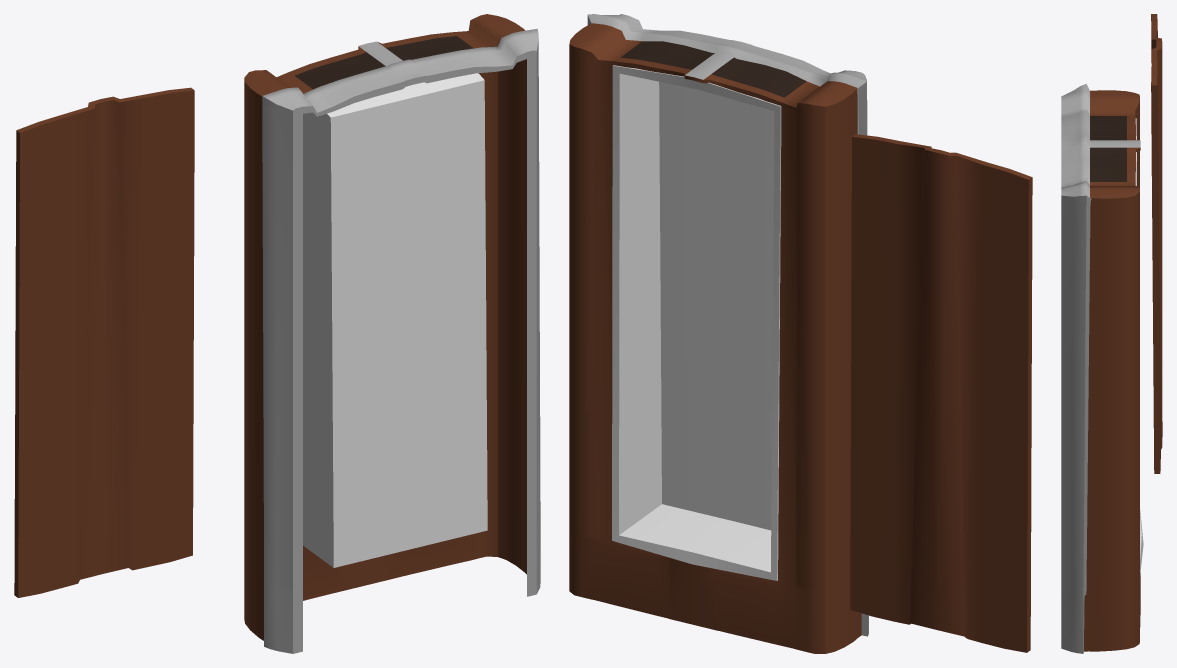
File: auto_kast 1.FBX
The picture shows the model from 3 angles, left to right: view 1: azimuth 30°, elevation 25°; view 2: azimuth 150°, elevation 25°; view 3: azimuth 270°, elevation 25°; orthographic projection. The views are drawn at different scales.
Visible parts, largest first — view 1: motorkap, Bak, Plane002; view 2: Plane002, motorkap, Bak; view 3: Plane002, motorkap, Bak.
Part boxes in pixels (x1,y1,x2,y2): motorkap: (14,87,194,597); Bak: (303,73,487,567); Plane002: (244,14,540,653); Plane002: (569,14,868,653); motorkap: (850,134,1032,652); Bak: (612,65,781,580); Plane002: (1061,83,1140,653); motorkap: (1151,14,1162,473); Bak: (1135,118,1143,575).
Bounding box in the file's own units: 73.97 × 81.57 × 16.21.
